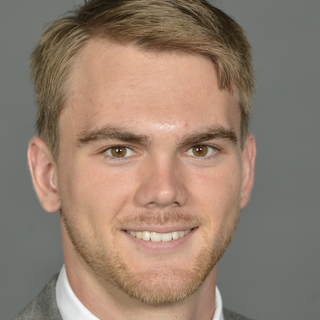eye: (87, 141, 147, 167), (177, 141, 228, 167)
